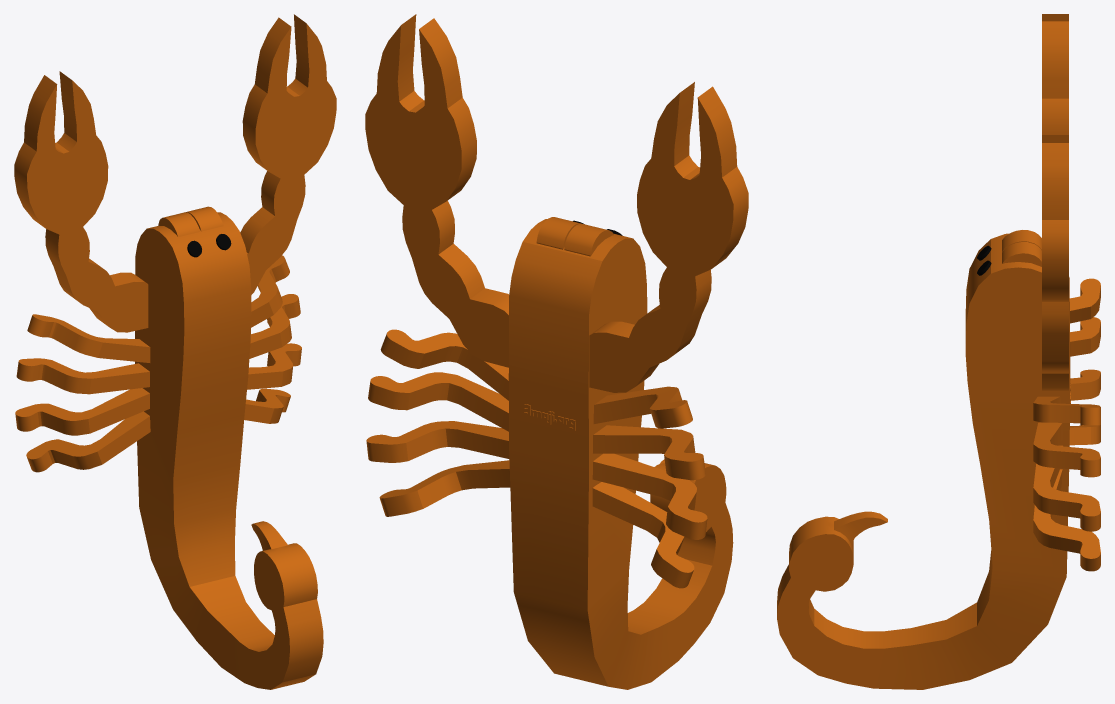
The model's file is scorpion.glb.
The picture shows the model from 3 angles, left to right: view 1: azimuth 30°, elevation 25°; view 2: azimuth 150°, elevation 25°; view 3: azimuth 270°, elevation 25°; orthographic projection. The views are drawn at different scales.
Visible parts, largest first — view 1: Plane.176; view 2: Plane.176; view 3: Plane.176.
Part boxes in pixels (x1,y1,x2,y2): Plane.176: (14,14,336,689); Plane.176: (365,14,748,689); Plane.176: (777,14,1100,689).
Bounding box in the file's own units: 1.23 × 2.15 × 1.05.
1 material, 1 textured.
